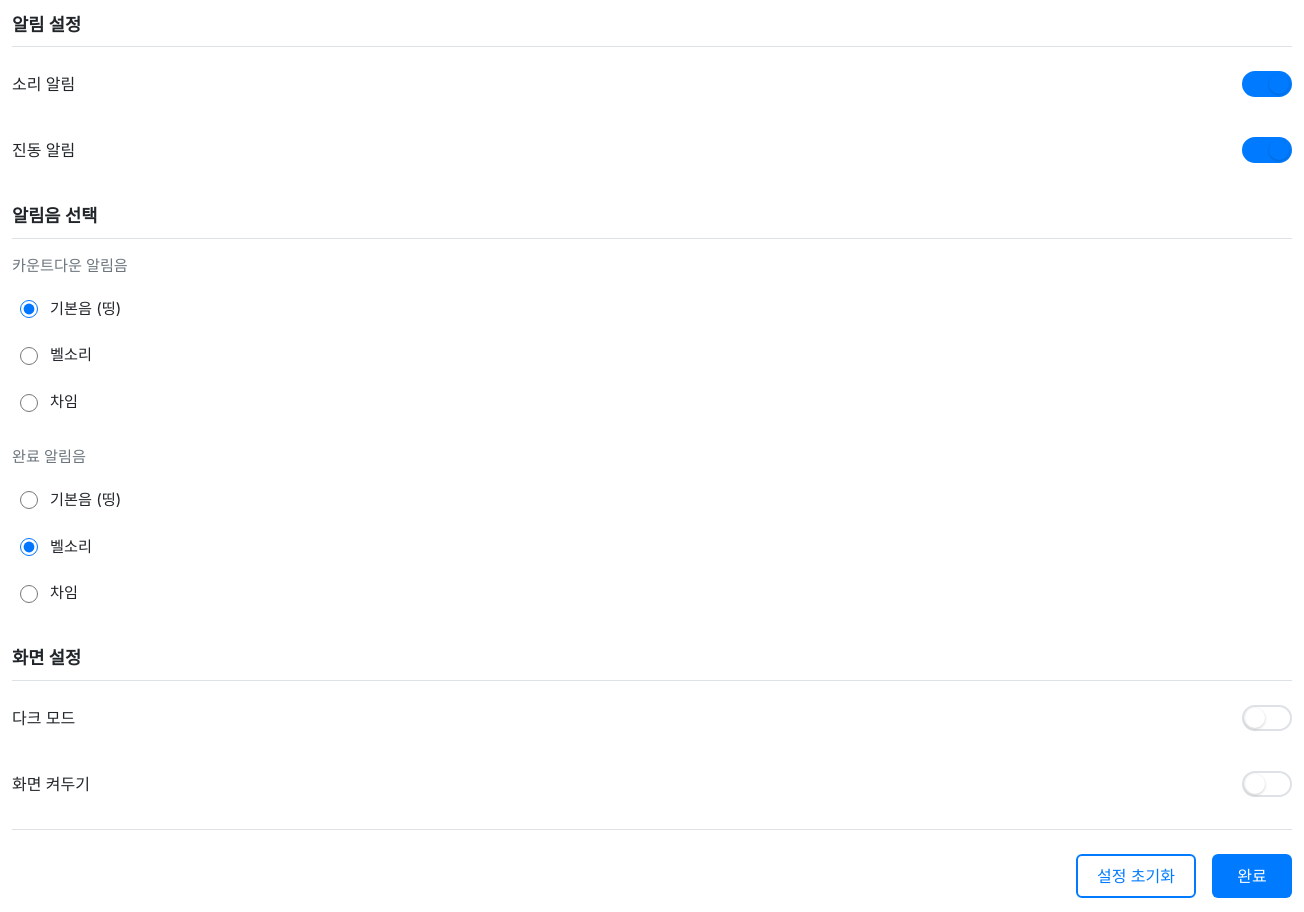
Test: Settings Component › toggles vibration setting when clicked
This screenshot has width=1304, height=912.
Click the switch named "진동 알림 끄기" at (1267, 150), box [1242,137,1292,163]
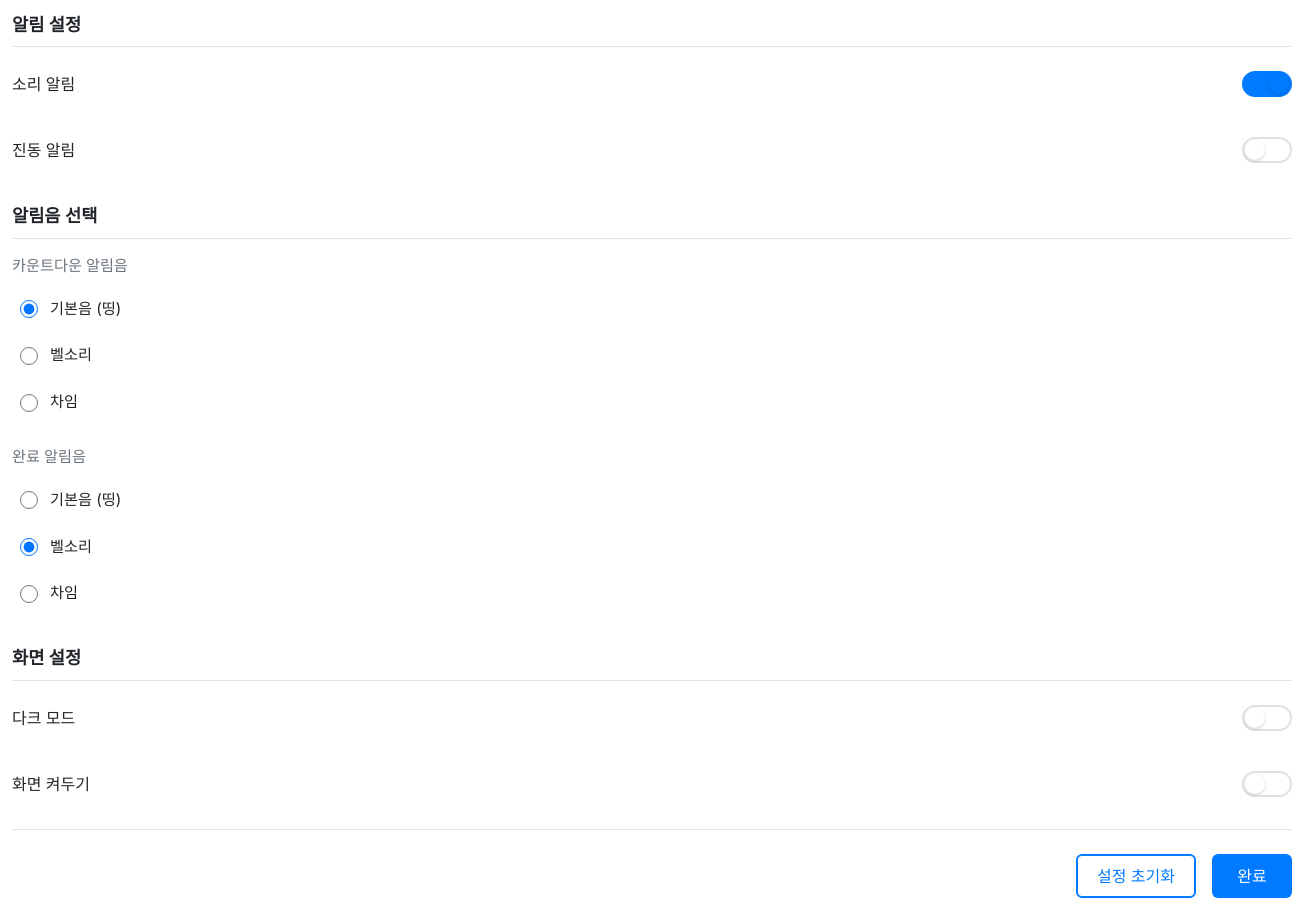
Check: the switch named "진동 알림 켜기" is shown, box [1242,137,1292,163]
